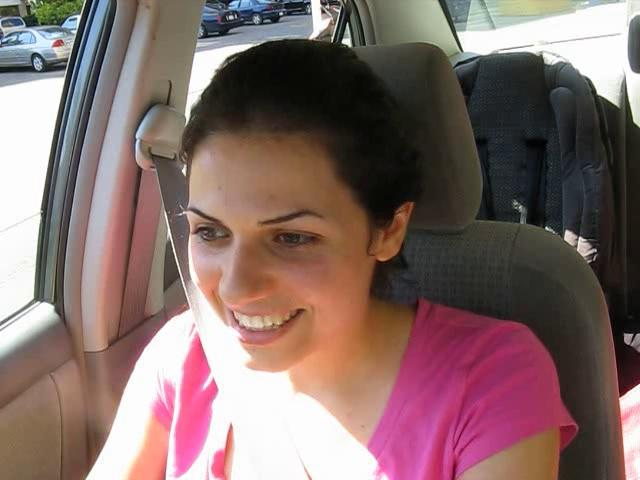no_yawn: (206, 290, 321, 359)
open_eyeL: (177, 210, 239, 255)
open_eyeR: (257, 213, 342, 261)
